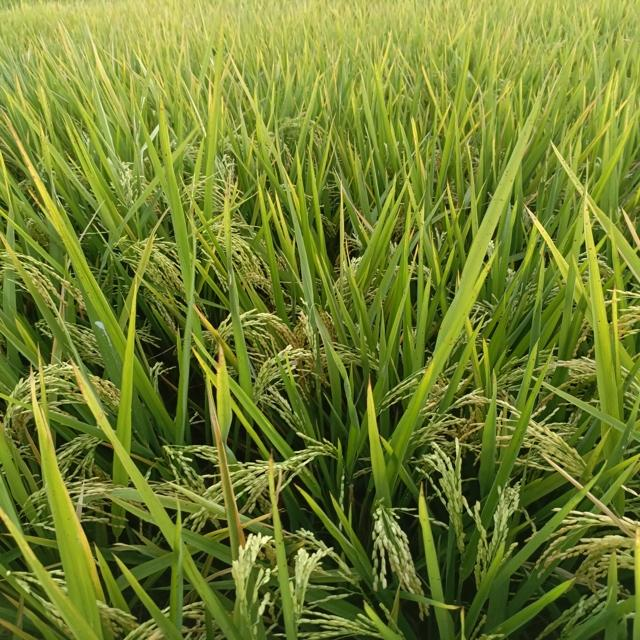Brown spot: (205, 375, 250, 549), (267, 448, 287, 501), (213, 339, 227, 374)
insects: (460, 53, 560, 249), (440, 237, 507, 357), (584, 154, 611, 330), (416, 477, 446, 582), (278, 527, 286, 548)
